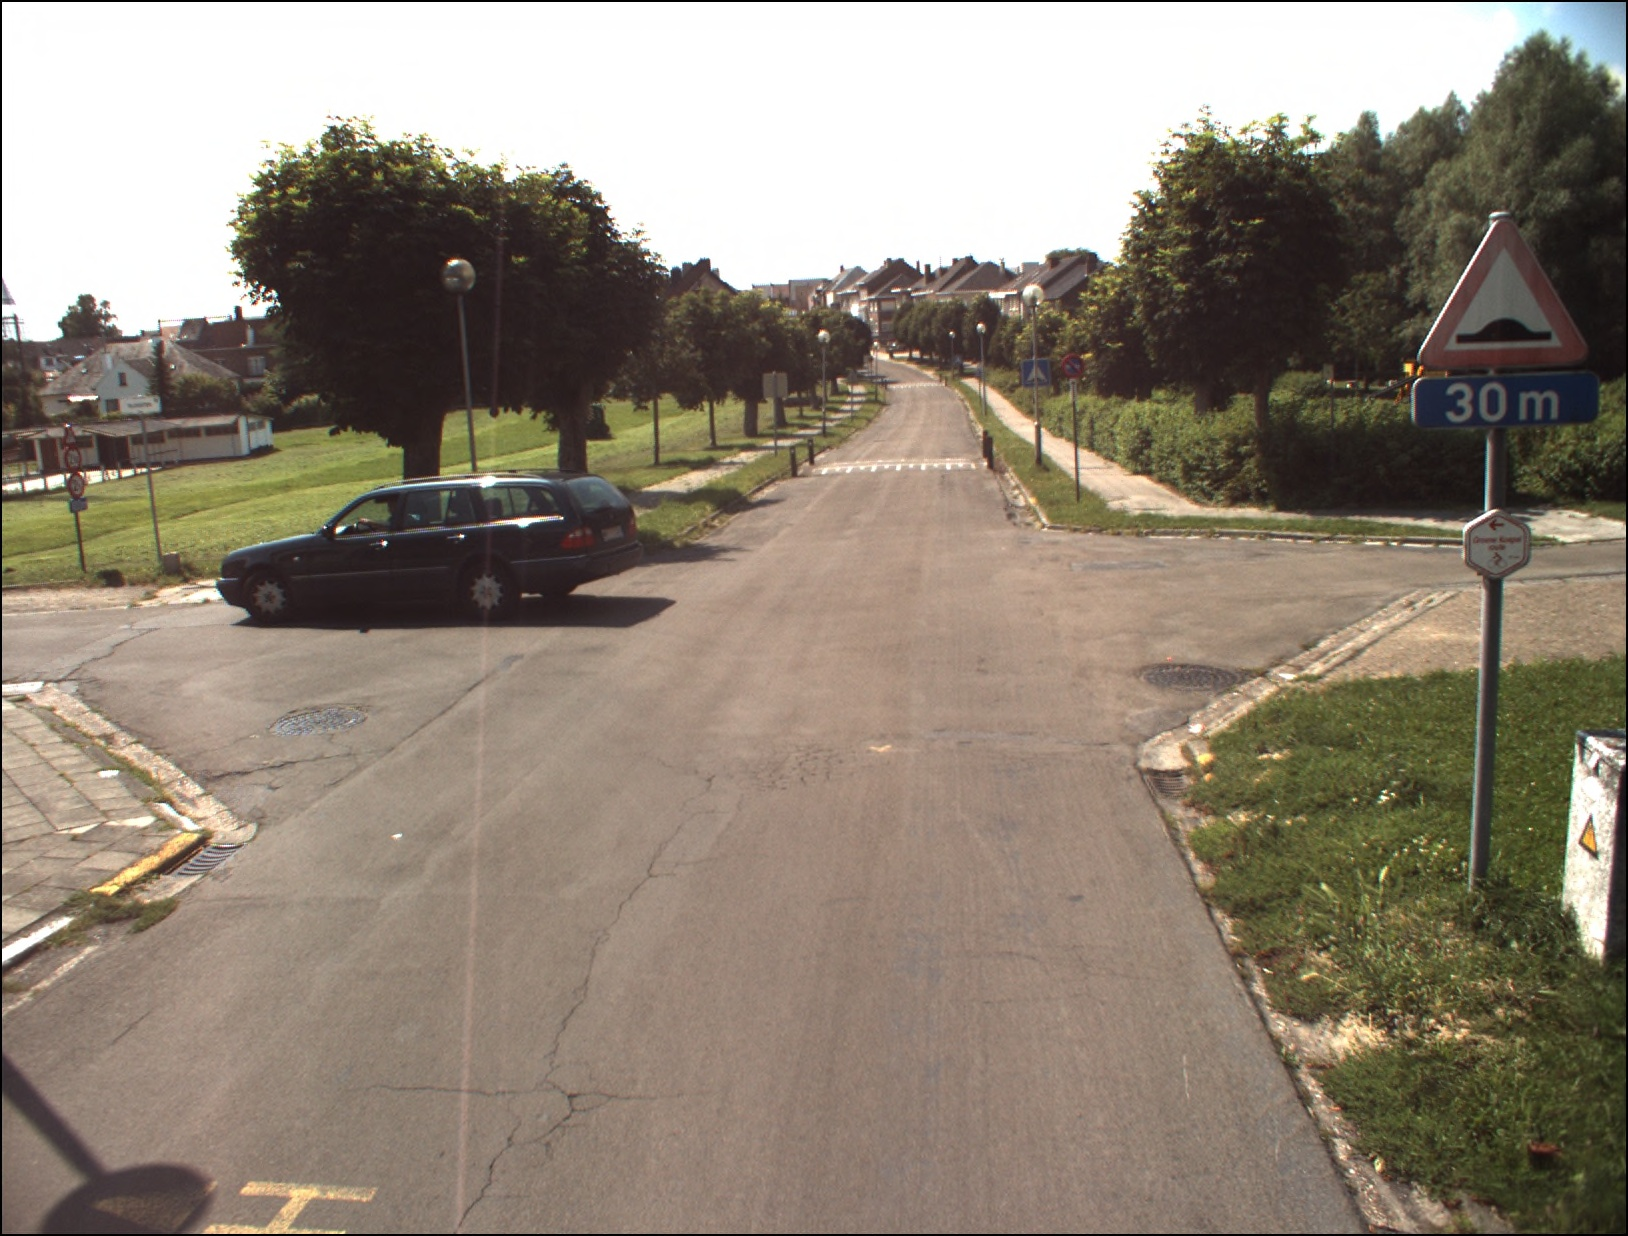speedbump: (1422, 216, 1590, 373)
